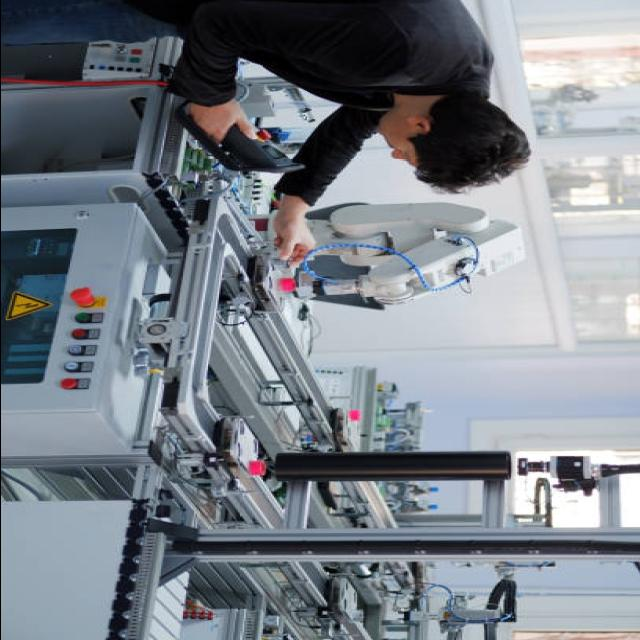Robotic-arm: (272, 198, 527, 318)
